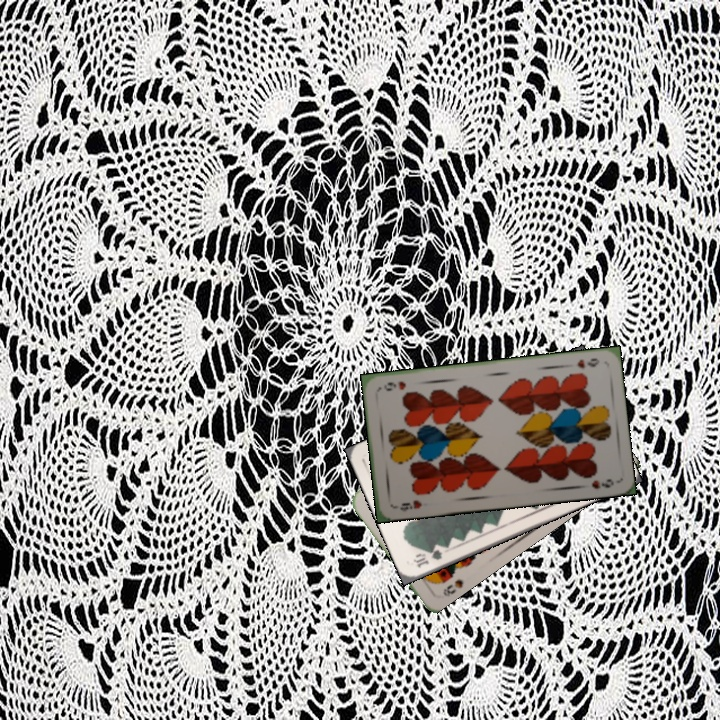G10: (409, 545, 445, 570)
H9: (390, 496, 425, 514), (573, 354, 602, 371)
S8: (439, 575, 466, 599)
